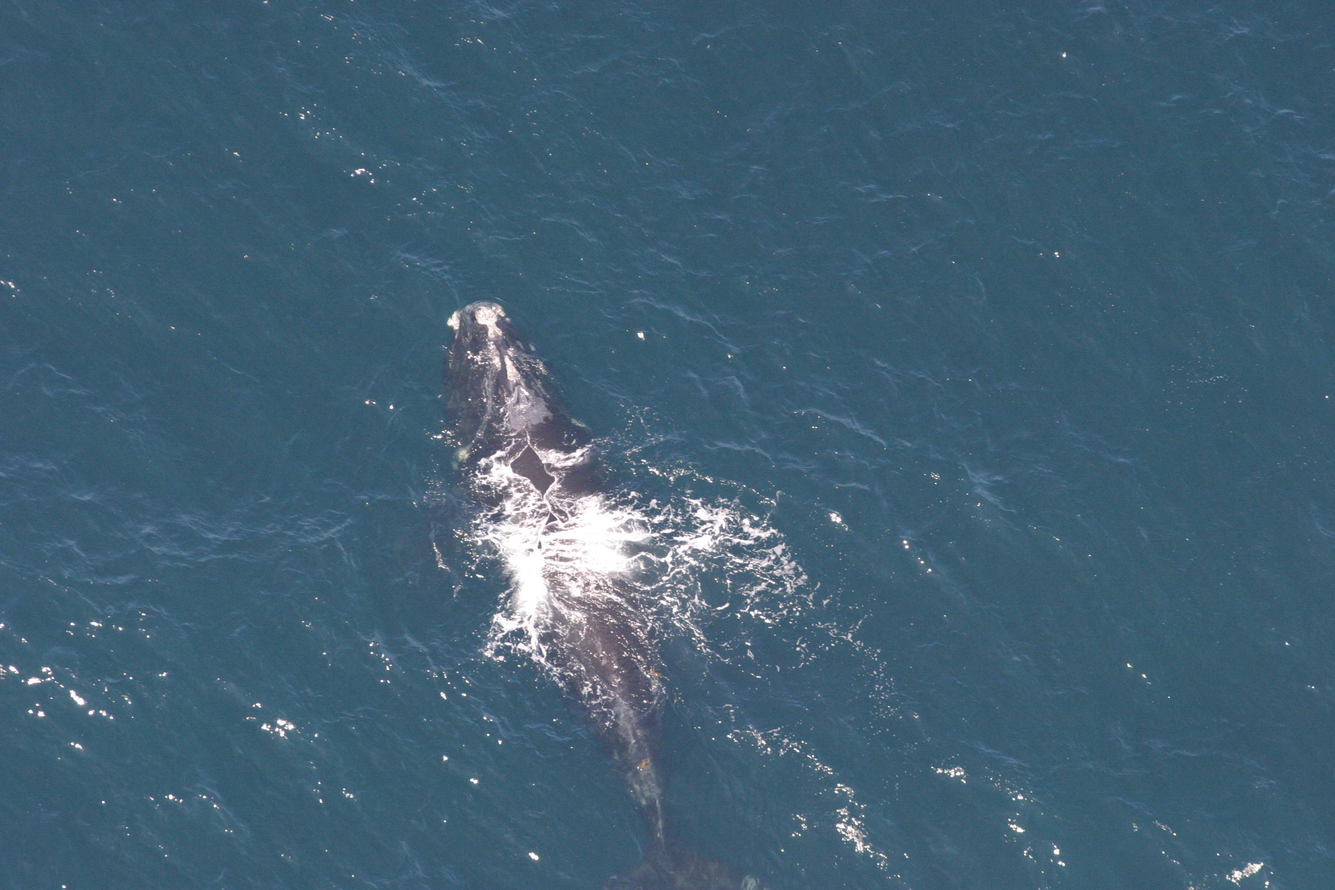whale: (400, 294, 768, 890)
